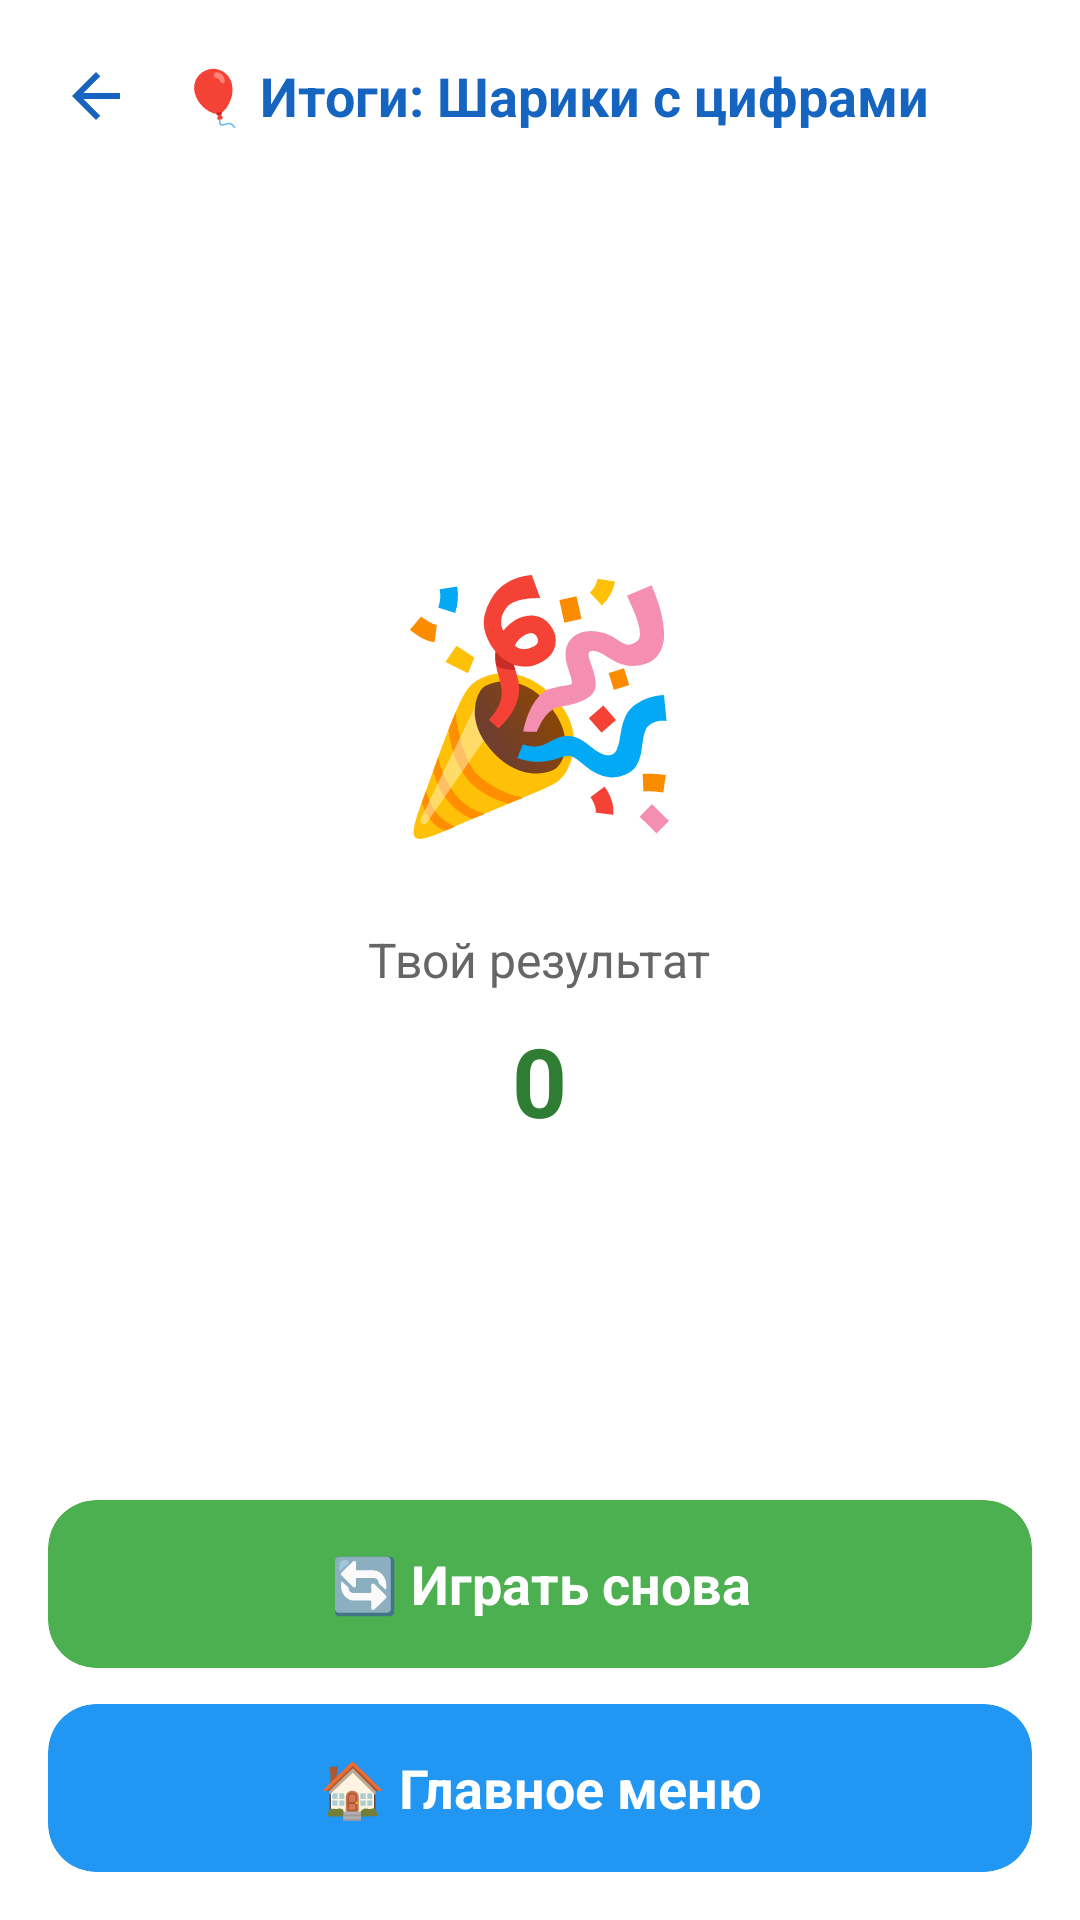

Icon click points for this 1080×1920 phone screenshot, format (x=x, y=y):
Назад: (x=96, y=96)
